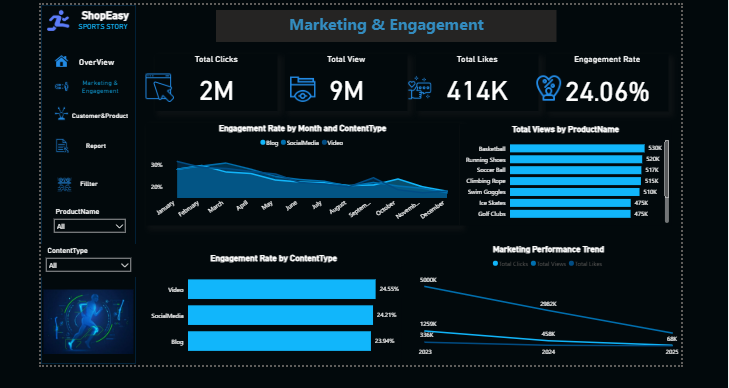

What the dashboard file says about the page in this screenshot:
{"tool":"powerbi","page":{"name":"Page 3","canvas":[1280,720],"ordinal":2},"visuals":[{"type":"cardVisual","fields":{"Data":["Meagure.Total Revenue"]},"box":[776.2,140,356.2,358.8],"z":0},{"type":"card","fields":{"Values":["Meagure.Total Revenue"]},"box":[150,420,300,300],"z":1000},{"type":"card","fields":{"Values":["Meagure.Engagement Rate"]},"box":[0,140,356,280],"z":2000},{"type":"card","title":"Total Likes","fields":{"Values":["Meagure.Total Likes"]},"box":[665,100,245,113.3],"z":3000},{"type":"card","title":"Total Likes","fields":{"Values":["Meagure.Total Likes"]},"box":[765.1,102.8,245.5,114.4],"z":4000},{"type":"card","title":"Total Likes","fields":{"Values":["Meagure.Total Likes"]},"box":[775.1,112.8,245.5,114.4],"z":5000},{"type":"clusteredBarChart","fields":{"Category":["products.ProductName"],"Y":["Meagure.Total Views"]},"box":[837.1,237.1,422.9,202.9],"z":6000},{"type":"card","title":"Total Clicks","fields":{"Values":["Meagure.Total Clicks"]},"box":[271.4,55.7,245.7,114.3],"z":7000},{"type":"scatterChart","fields":{"X":["Meagure.Total Views"],"Y":["Meagure.Total Purchases"],"Size":["Meagure.Total Revenue"],"Series":["products.ProductName"]},"box":[192,253,311,212],"z":8000},{"type":"lineChart","fields":{"Category":["customer_journey.VisitDate.Variation.Date Hierarchy.Year","customer_journey.VisitDate.Variation.Date Hierarchy.Quarter","customer_journey.VisitDate.Variation.Date Hierarchy.Month","customer_journey.VisitDate.Variation.Date Hierarchy.Day"],"Y":["Meagure.Conversion Rate"]},"box":[394.4,148.9,603.3,262.2],"z":9000},{"type":"lineClusteredColumnComboChart","fields":{"Category":["customer_journey.VisitDate.Variation.Date Hierarchy.Year","customer_journey.VisitDate.Variation.Date Hierarchy.Quarter","customer_journey.VisitDate.Variation.Date Hierarchy.Month","customer_journey.VisitDate.Variation.Date Hierarchy.Day"],"Y":["Meagure.Total Purchases"],"Y2":["Meagure.Total Revenue"]},"box":[255.7,238.6,384.3,195.7],"z":10000}]}

Visuals, with their boxes on the page's 1280x720 design canvas (x1, y1, x2, y2). These are canvas units, not pixel positions in the 729x388 screenshot, which may show the page scaled, cropped or inside an application window:
cardVisual - Meagure.Total Revenue: {"left": 776, "top": 140, "right": 1132, "bottom": 499}
card - Meagure.Total Revenue: {"left": 150, "top": 420, "right": 450, "bottom": 720}
card - Meagure.Engagement Rate: {"left": 0, "top": 140, "right": 356, "bottom": 420}
"Total Likes" card: {"left": 665, "top": 100, "right": 910, "bottom": 213}
"Total Likes" card: {"left": 765, "top": 103, "right": 1011, "bottom": 217}
"Total Likes" card: {"left": 775, "top": 113, "right": 1021, "bottom": 227}
clusteredBarChart - products.ProductName x Meagure.Total Views: {"left": 837, "top": 237, "right": 1260, "bottom": 440}
"Total Clicks" card: {"left": 271, "top": 56, "right": 517, "bottom": 170}
scatterChart - Meagure.Total Views x Meagure.Total Purchases: {"left": 192, "top": 253, "right": 503, "bottom": 465}
lineChart - customer_journey.VisitDate.Variation.Date Hierarchy.Year x customer_journey.VisitDate.Variation.Date Hierarchy.Quarter: {"left": 394, "top": 149, "right": 998, "bottom": 411}
lineClusteredColumnComboChart - customer_journey.VisitDate.Variation.Date Hierarchy.Year x customer_journey.VisitDate.Variation.Date Hierarchy.Quarter: {"left": 256, "top": 239, "right": 640, "bottom": 434}
